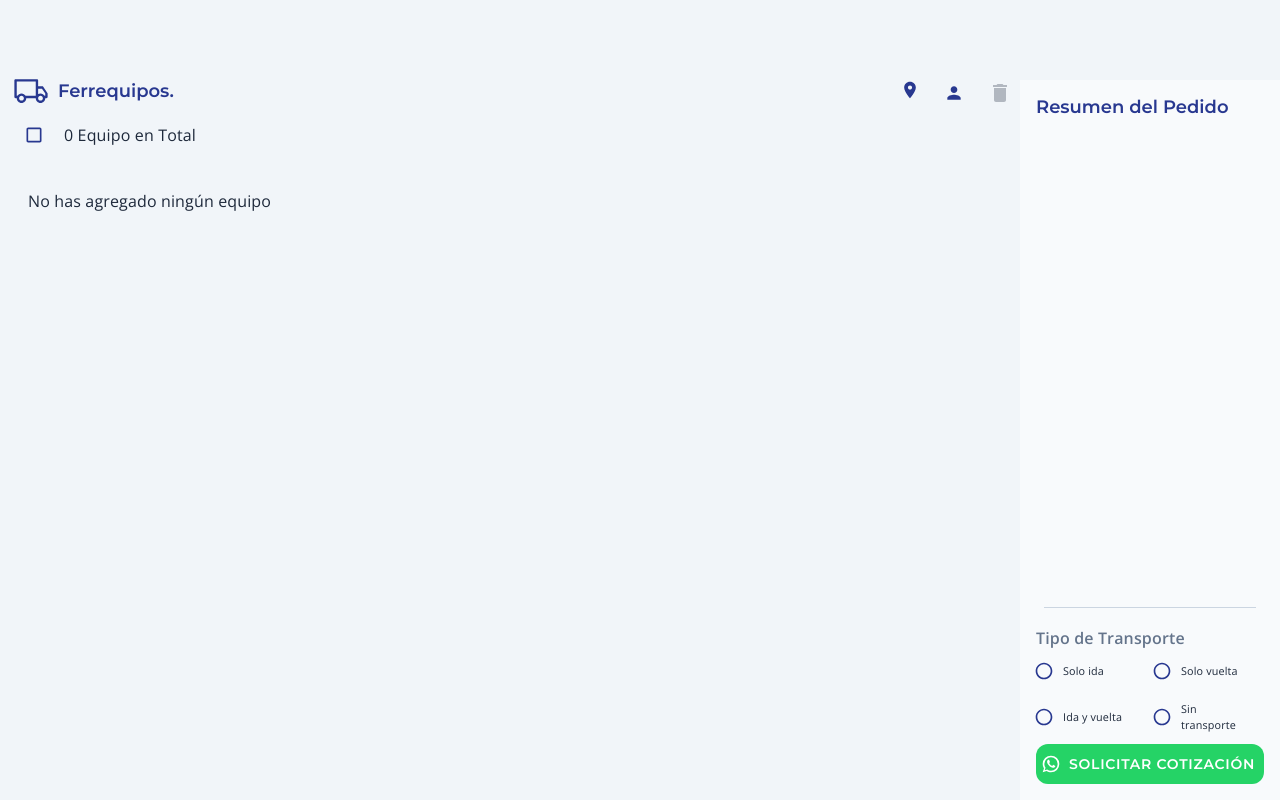
Test: VistaCart — el carrito vacío › no manda nada ni abre WhatsApp
This screenshot has width=1280, height=800.
Click the button "Solicitar Cotización". click: (1150, 764)
box: x1=1036 y1=744 x2=1264 y2=784
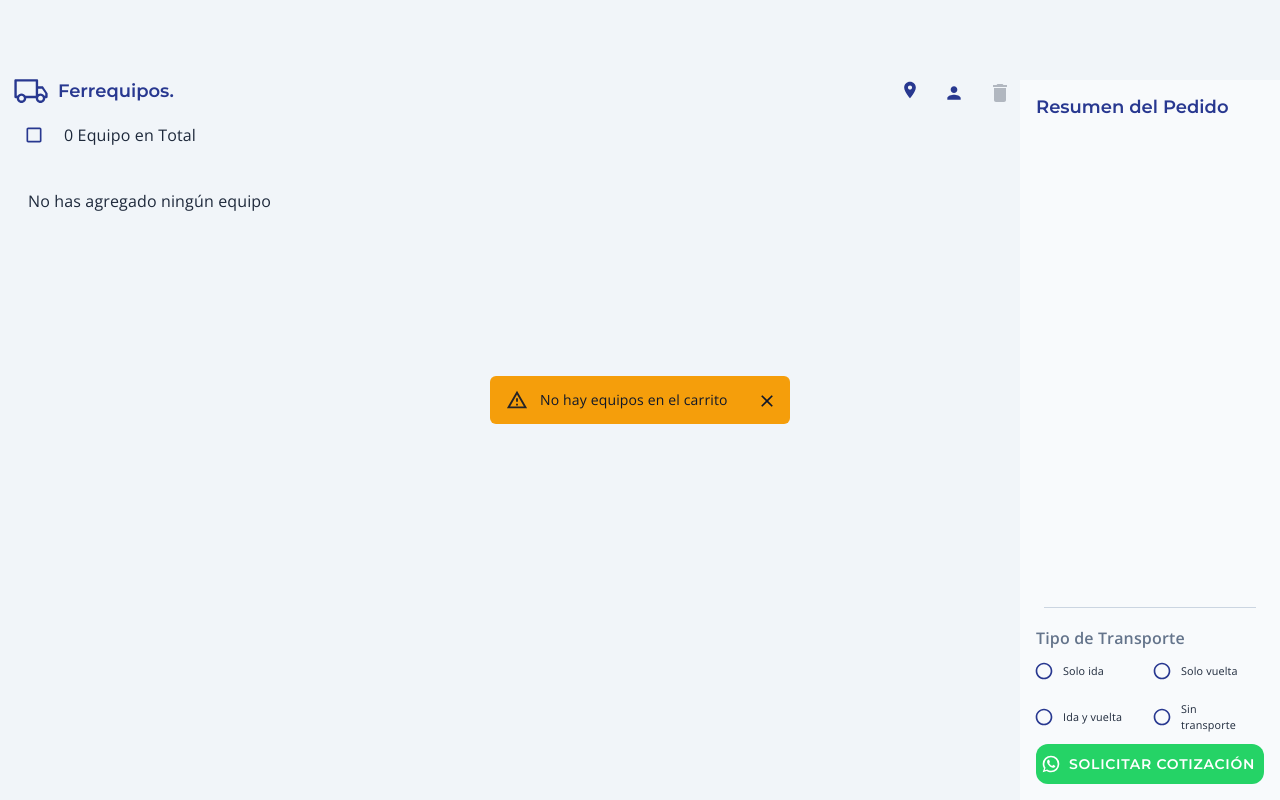
Expected: the text "No hay equipos en el carrito" is shown, x1=540 y1=390 x2=728 y2=409
